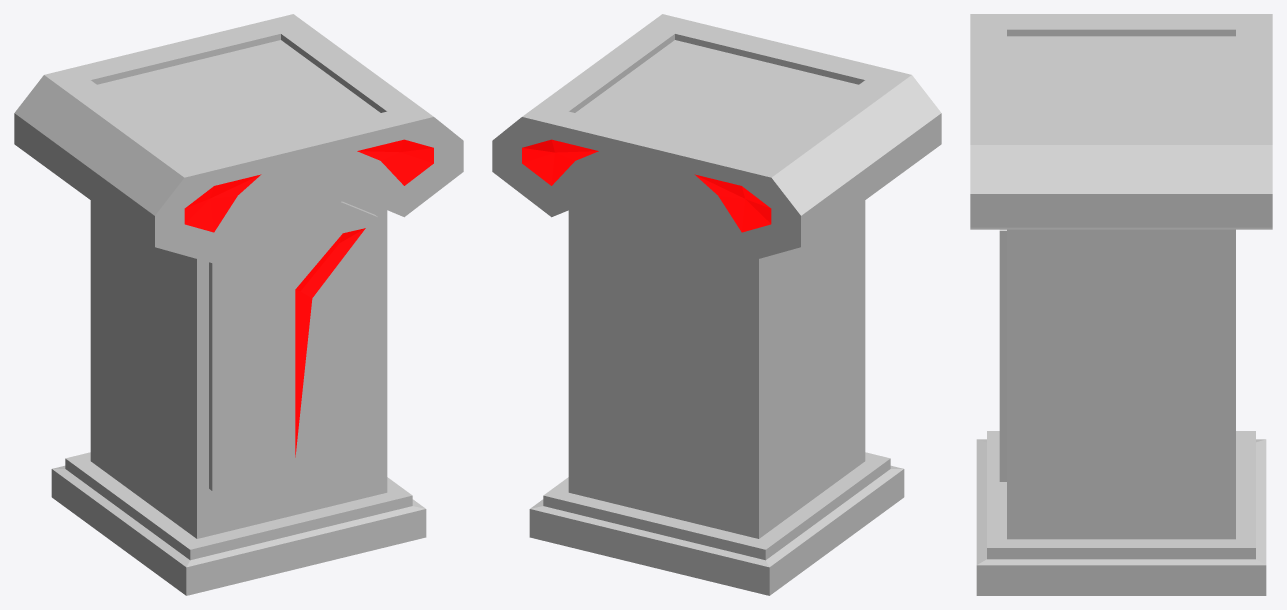
Rendered from pedi1.fbx.
3 renders of one model, left to right at view 1: azimuth 30°, elevation 25°; view 2: azimuth 150°, elevation 25°; view 3: azimuth 270°, elevation 25°, orthographic. The views are drawn at different scales.
Visible parts, largest first — view 1: Cube; view 2: Cube; view 3: Cube.
Part boxes in pixels (<box>): Cube: <box>14,14,463,595</box>; Cube: <box>492,14,941,595</box>; Cube: <box>970,14,1272,595</box>.
Bounding box in the file's own units: 521 × 680 × 411.
